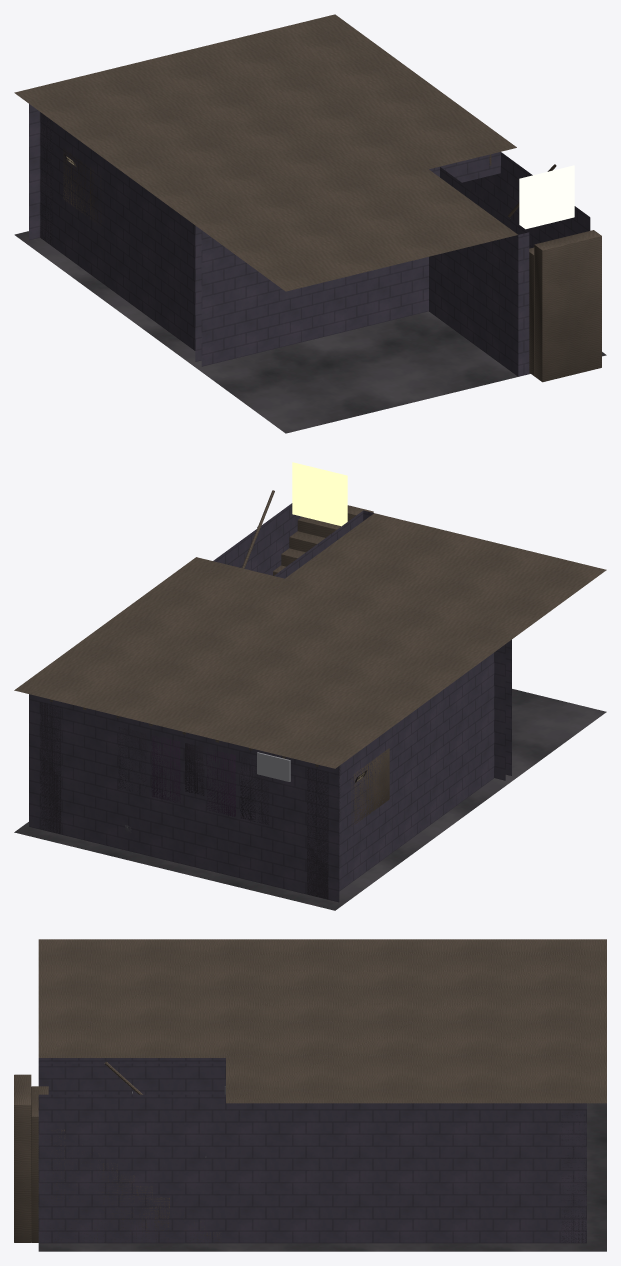
The model's file is studio.glb.
The picture shows the model from 3 angles, top to bottom: view 1: azimuth 30°, elevation 25°; view 2: azimuth 150°, elevation 25°; view 3: azimuth 270°, elevation 25°; orthographic projection. The views are drawn at different scales.
Parts seen in each view (by area): view 1: Room_Static, stair_glow; view 2: Room_Static, stair_glow; view 3: Room_Static.
Part boxes in pixels (bbox=[...]): Room_Static: bbox=[14, 14, 606, 433]; stair_glow: bbox=[519, 165, 574, 229]; Room_Static: bbox=[14, 490, 606, 910]; stair_glow: bbox=[292, 462, 347, 526]; Room_Static: bbox=[14, 939, 606, 1251].
Size of the model in its own units: 5.8 by 3.4 by 8.87.
44 materials, 25 textured.
